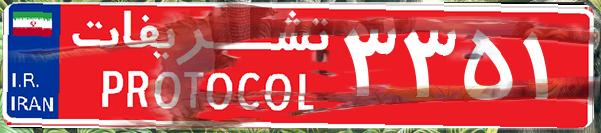1: (520, 20, 580, 115)
3: (340, 20, 400, 115), (400, 20, 460, 115)
5: (460, 20, 520, 115)
تشریفات: (60, 8, 340, 125)
